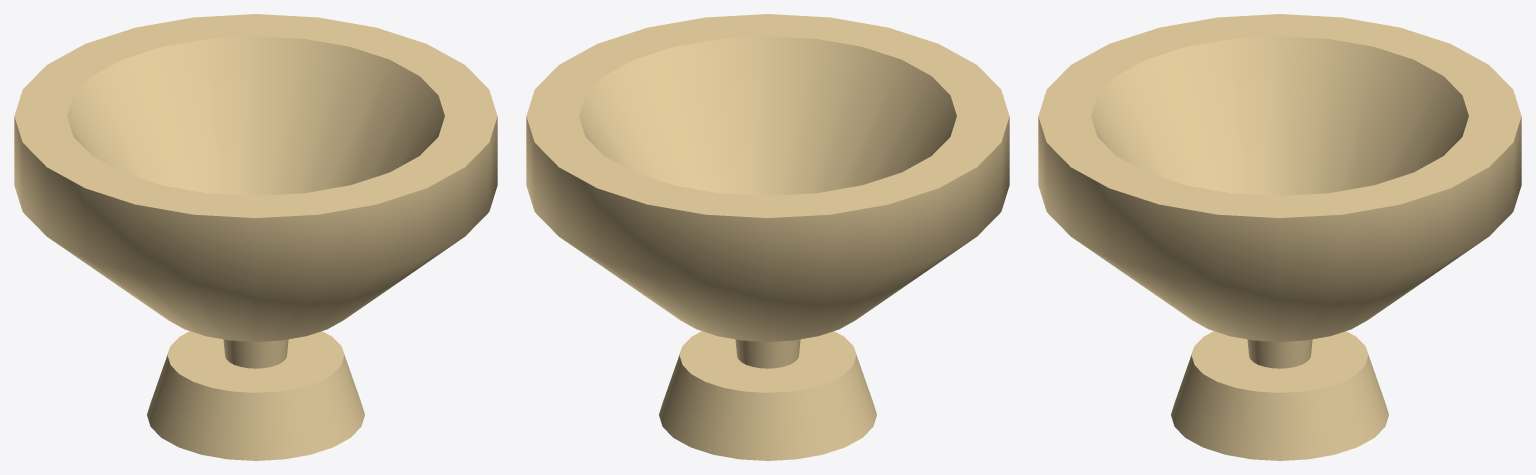
File: detailBowl.glb
3 renders of one model, left to right at view 1: azimuth 30°, elevation 25°; view 2: azimuth 150°, elevation 25°; view 3: azimuth 270°, elevation 25°, orthographic.
Visible parts, largest first — view 1: detailBowl; view 2: detailBowl; view 3: detailBowl.
Boxes of the visible parts, x1=… form: detailBowl: x1=14, y1=14, x2=497, y2=460; detailBowl: x1=526, y1=14, x2=1009, y2=460; detailBowl: x1=1038, y1=14, x2=1521, y2=460.
Bounding box in the file's own units: 0.1587 × 0.1083 × 0.1587.
